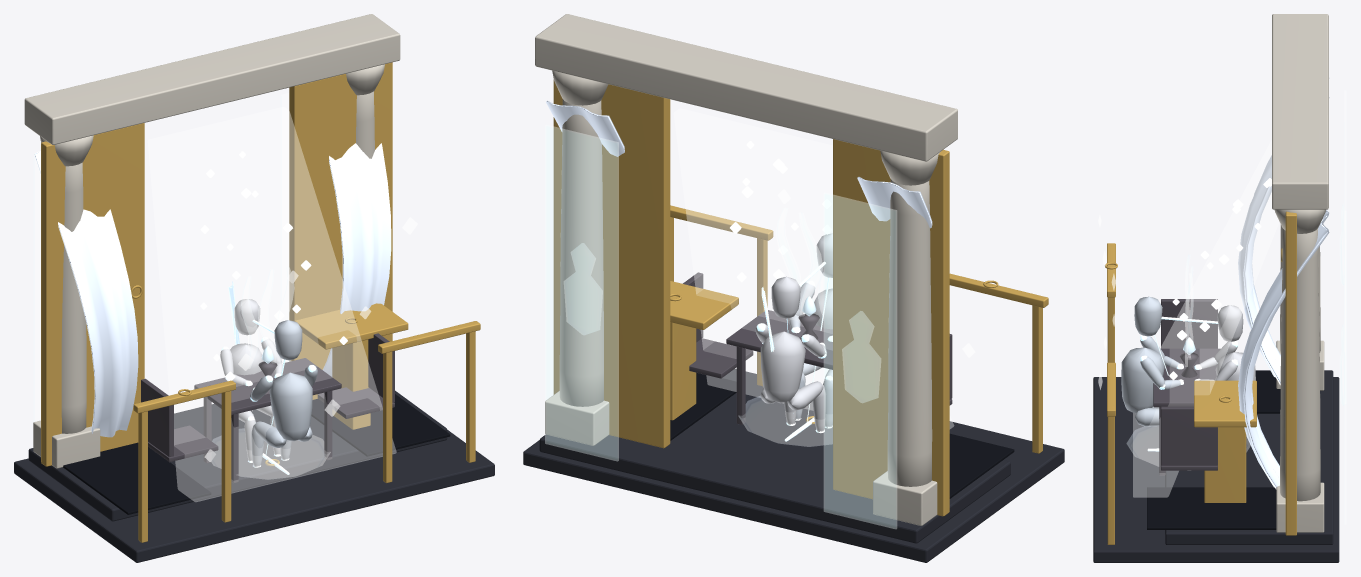
File: webtoon-duo-ots-table-dialogue-v29.glb
3 views of the same model, side by side, from view 1: azimuth 30°, elevation 25°; view 2: azimuth 150°, elevation 25°; view 3: azimuth 270°, elevation 25° (orthographic). The views are drawn at different scales.
Parts seen in each view (by area): view 1: Volumetric_V29Duo2_Ots_GodRaySlit, Articulated_V29Duo2_Ots_DoorsAndIkRig, V29Duo2_Ots_PortalColonnade, V29Duo2_Ots_DatumDeck, WindDrape_V29Duo2_Ots_CatenaryPair, Aftermath_V29Duo2_Ots_DatumProps, ShadowDrift_V29Duo2_Ots_UmbraMask, DuoVrm_V29Duo2_Ots_LeadA, HalfMirror_V29Duo2_Ots_FresnelReflection, DuoVrm_V29Duo2_Ots_LeadB, AftermathDust_V29Duo2_Ots_PlumeLobes, ThermalHaze_V29Duo2_Ots_ConvectiveRibbons (+3 smaller); view 2: Articulated_V29Duo2_Ots_DoorsAndIkRig, V29Duo2_Ots_PortalColonnade, HalfMirror_V29Duo2_Ots_FresnelReflection, V29Duo2_Ots_DatumDeck, Volumetric_V29Duo2_Ots_GodRaySlit, DuoVrm_V29Duo2_Ots_LeadB, Aftermath_V29Duo2_Ots_DatumProps, ShadowDrift_V29Duo2_Ots_UmbraMask, WindDrape_V29Duo2_Ots_CatenaryPair, AftermathDust_V29Duo2_Ots_PlumeLobes, DuoVrm_V29Duo2_Ots_LeadA, ThermalHaze_V29Duo2_Ots_ConvectiveRibbons (+2 smaller); view 3: V29Duo2_Ots_PortalColonnade, V29Duo2_Ots_DatumDeck, Volumetric_V29Duo2_Ots_GodRaySlit, Articulated_V29Duo2_Ots_DoorsAndIkRig, Aftermath_V29Duo2_Ots_DatumProps, WindDrape_V29Duo2_Ots_CatenaryPair, ShadowDrift_V29Duo2_Ots_UmbraMask, DuoVrm_V29Duo2_Ots_LeadA, HalfMirror_V29Duo2_Ots_FresnelReflection, DuoVrm_V29Duo2_Ots_LeadB, AftermathDust_V29Duo2_Ots_PlumeLobes, Atmospheric_V29Duo2_Ots_MidMotes (+2 smaller).
Boxes of the visible parts, x1,y1,x2,y2 form: Volumetric_V29Duo2_Ots_GodRaySlit: (148,107,396,501); Articulated_V29Duo2_Ots_DoorsAndIkRig: (41,62,480,542); V29Duo2_Ots_PortalColonnade: (24,14,400,468); V29Duo2_Ots_DatumDeck: (14,390,494,562); WindDrape_V29Duo2_Ots_CatenaryPair: (34,143,391,437); Aftermath_V29Duo2_Ots_DatumProps: (141,333,394,482); ShadowDrift_V29Duo2_Ots_UmbraMask: (63,394,450,514); DuoVrm_V29Duo2_Ots_LeadA: (249,320,317,466); HalfMirror_V29Duo2_Ots_FresnelReflection: (34,93,288,421); DuoVrm_V29Duo2_Ots_LeadB: (220,299,282,460); AftermathDust_V29Duo2_Ots_PlumeLobes: (212,429,330,479); ThermalHaze_V29Duo2_Ots_ConvectiveRibbons: (241,267,294,368); Articulated_V29Duo2_Ots_DoorsAndIkRig: (553,80,1048,516); V29Duo2_Ots_PortalColonnade: (535,14,957,525); HalfMirror_V29Duo2_Ots_FresnelReflection: (545,125,896,528); V29Duo2_Ots_DatumDeck: (523,369,1064,562); Volumetric_V29Duo2_Ots_GodRaySlit: (674,108,953,428); DuoVrm_V29Duo2_Ots_LeadB: (755,276,826,431); Aftermath_V29Duo2_Ots_DatumProps: (683,272,952,424); ShadowDrift_V29Duo2_Ots_UmbraMask: (670,372,1014,498); WindDrape_V29Duo2_Ots_CatenaryPair: (546,100,932,228); AftermathDust_V29Duo2_Ots_PlumeLobes: (739,396,832,446); DuoVrm_V29Duo2_Ots_LeadA: (788,234,832,427); ThermalHaze_V29Duo2_Ots_ConvectiveRibbons: (776,208,823,317); V29Duo2_Ots_PortalColonnade: (1272,14,1328,532); V29Duo2_Ots_DatumDeck: (1093,370,1339,562); Volumetric_V29Duo2_Ots_GodRaySlit: (1133,140,1279,497); Articulated_V29Duo2_Ots_DoorsAndIkRig: (1105,211,1296,544); Aftermath_V29Duo2_Ots_DatumProps: (1153,299,1220,475); WindDrape_V29Duo2_Ots_CatenaryPair: (1238,78,1329,489); ShadowDrift_V29Duo2_Ots_UmbraMask: (1147,371,1280,529); DuoVrm_V29Duo2_Ots_LeadA: (1121,296,1180,426); HalfMirror_V29Duo2_Ots_FresnelReflection: (1340,90,1346,524); DuoVrm_V29Duo2_Ots_LeadB: (1199,305,1255,380); AftermathDust_V29Duo2_Ots_PlumeLobes: (1127,426,1250,466); Atmospheric_V29Duo2_Ots_MidMotes: (1169,178,1271,380).
Size of the model in its own units: 2.76 by 3.06 by 1.69.
